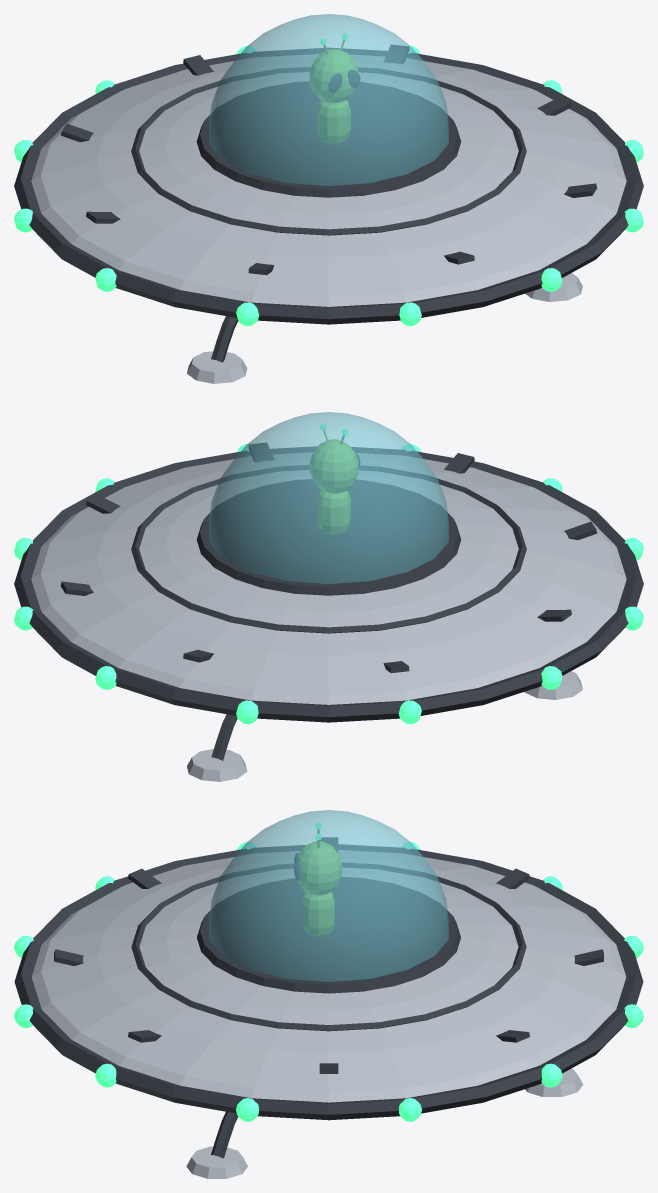
The model's file is ufo.glb.
3 renders of one model, top to bottom at view 1: azimuth 30°, elevation 25°; view 2: azimuth 150°, elevation 25°; view 3: azimuth 270°, elevation 25°, orthographic.
Visible parts, largest first — view 1: upperHull, dome, domeCollar, rimRing, panelRing, saucer, alienHead, footPad3, alienBody, footPad1, leg3; view 2: upperHull, dome, domeCollar, rimRing, panelRing, saucer, alienHead, footPad2, alienBody, footPad3, leg2; view 3: upperHull, dome, domeCollar, rimRing, panelRing, saucer, alienHead, footPad1, alienBody, footPad2, leg1.
Boxes of the visible parts, x1=… form: upperHull: x1=31, y1=54, x2=626, y2=306; dome: x1=209, y1=14, x2=448, y2=185; domeCollar: x1=196, y1=81, x2=461, y2=197; rimRing: x1=14, y1=48, x2=643, y2=324; panelRing: x1=131, y1=67, x2=526, y2=235; saucer: x1=60, y1=44, x2=597, y2=275; alienHead: x1=310, y1=49, x2=358, y2=103; footPad3: x1=187, y1=351, x2=247, y2=383; alienBody: x1=317, y1=100, x2=350, y2=143; footPad1: x1=525, y1=273, x2=582, y2=301; leg3: x1=211, y1=316, x2=238, y2=362; upperHull: x1=31, y1=452, x2=626, y2=704; dome: x1=209, y1=412, x2=448, y2=583; domeCollar: x1=196, y1=479, x2=461, y2=595; rimRing: x1=14, y1=446, x2=643, y2=722; panelRing: x1=131, y1=465, x2=526, y2=633; saucer: x1=60, y1=442, x2=597, y2=673; alienHead: x1=310, y1=439, x2=358, y2=493; footPad2: x1=187, y1=749, x2=247, y2=781; alienBody: x1=317, y1=490, x2=350, y2=533; footPad3: x1=524, y1=671, x2=582, y2=699; leg2: x1=211, y1=714, x2=237, y2=760; upperHull: x1=31, y1=850, x2=626, y2=1102; dome: x1=209, y1=810, x2=448, y2=981; domeCollar: x1=197, y1=877, x2=460, y2=993; rimRing: x1=14, y1=844, x2=643, y2=1120; panelRing: x1=131, y1=862, x2=526, y2=1031; saucer: x1=54, y1=837, x2=603, y2=1073; alienHead: x1=297, y1=841, x2=341, y2=895; footPad1: x1=186, y1=1146, x2=247, y2=1178; alienBody: x1=303, y1=892, x2=334, y2=935; footPad2: x1=525, y1=1068, x2=583, y2=1096; leg1: x1=211, y1=1111, x2=238, y2=1158.
Size of the model in its own units: 7.33 by 3.38 by 7.33.
